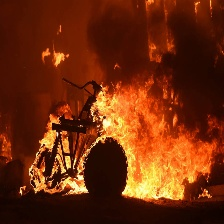fire: (25, 82, 215, 204), (143, 1, 179, 58), (34, 47, 69, 67), (1, 128, 19, 164)
smoke: (4, 2, 140, 85), (185, 5, 221, 119)
